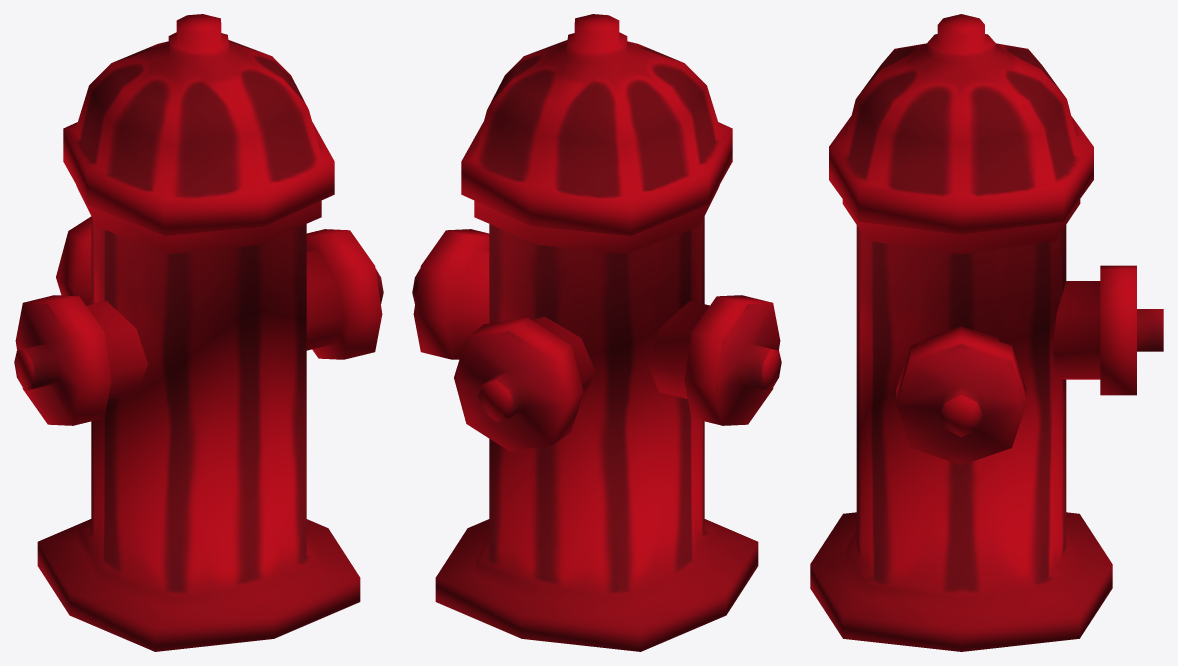
Rendered from Hydrant.fbx.
3 renders of one model, left to right at view 1: azimuth 30°, elevation 25°; view 2: azimuth 150°, elevation 25°; view 3: azimuth 270°, elevation 25°, orthographic.
Visible parts, largest first — view 1: Hydrant; view 2: Hydrant; view 3: Hydrant.
Part boxes in pixels (<box>): Hydrant: <box>14,14,383,651</box>; Hydrant: <box>412,14,781,651</box>; Hydrant: <box>810,14,1163,651</box>.
Bounding box in the file's own units: 51.2 × 78.67 × 44.73.
Materials: 1 (1 with a texture image).
